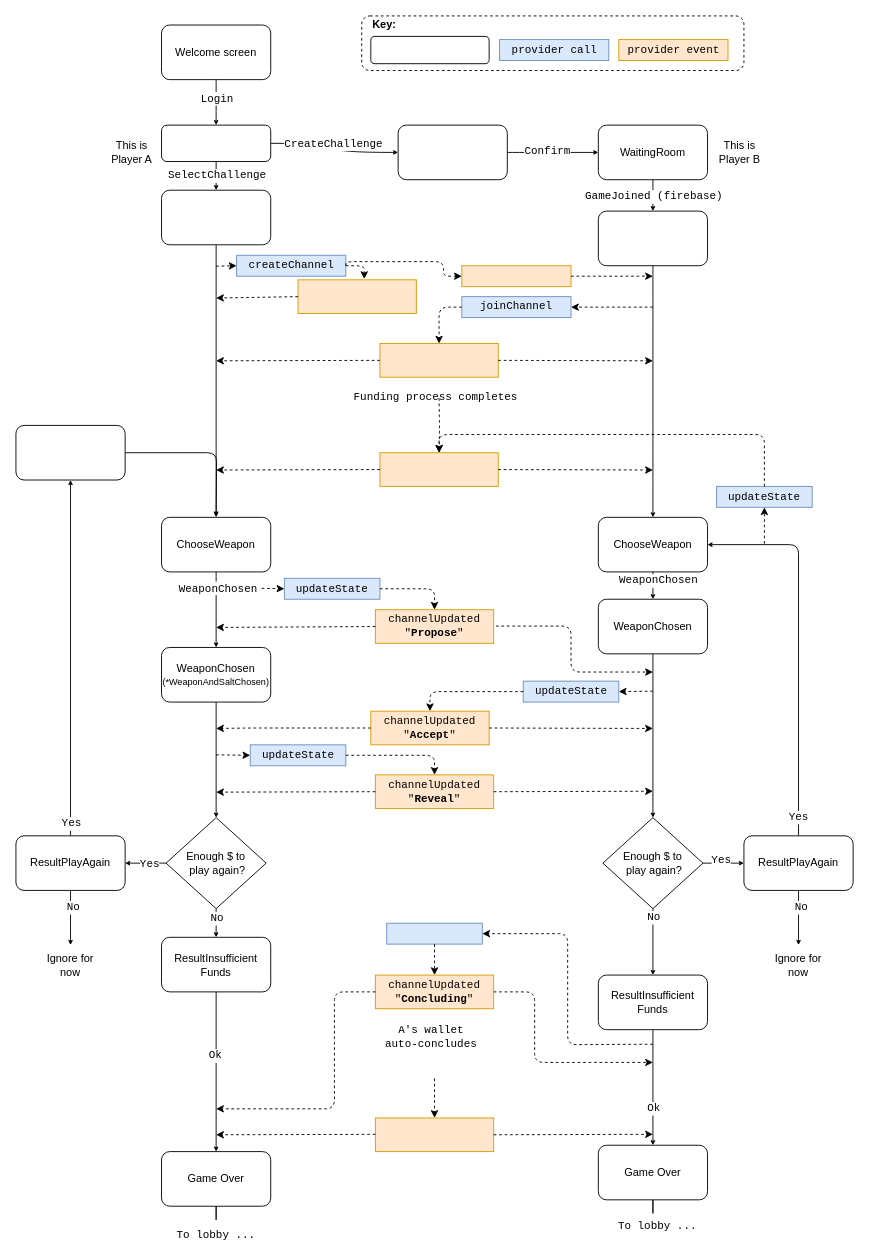
The diagram is 869 pixels wide and 1260 high, and some of its shapes have lost their labels. The shapes that lost their labels are listed below. From the top down, each one's box as (x1, y1, x2, y2) in pixels, then its label:
(370, 35, 489, 64): App screen
(161, 124, 271, 162): Lobby
(397, 124, 507, 180): CreateGame
(161, 189, 271, 245): GameChosen
(597, 210, 708, 266): OpponentJoined
(297, 279, 416, 313): channelUpdated "opening.."
(461, 265, 571, 287): channelProposed
(379, 343, 498, 377): channelUpdated "funding.."
(15, 425, 125, 480): Opponent wants to play again?
(379, 452, 498, 486): channelUpdated " Resting "
(386, 922, 482, 944): closeChannel
(374, 1117, 494, 1152): channelUpdated " Concluded "
